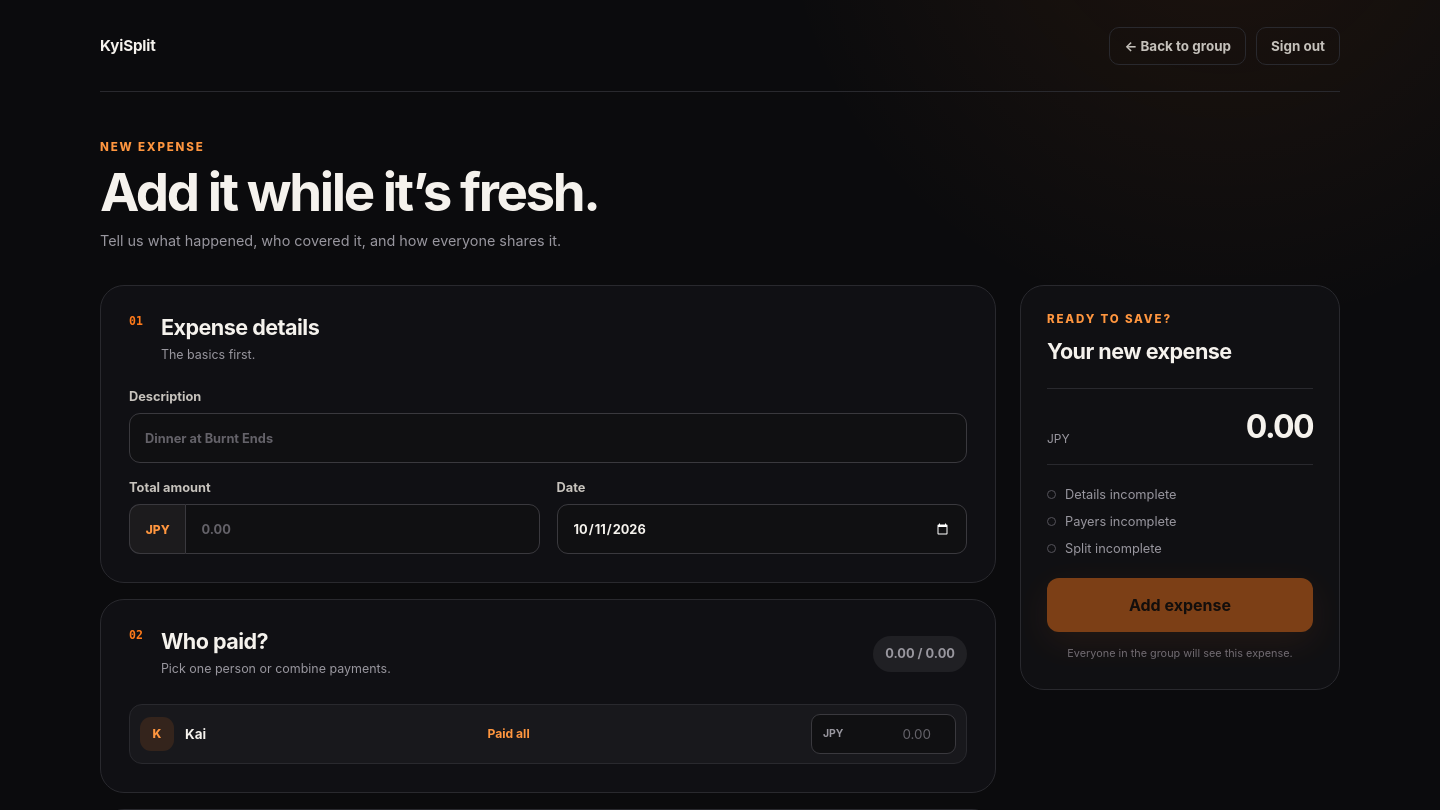
Test case: defaults to group currency and permits another supported source currency
The image size is (1440, 810).
Click the button with aria-label "Expense currency: JPY" at [157, 529], box left=129, top=504, right=185, bottom=554
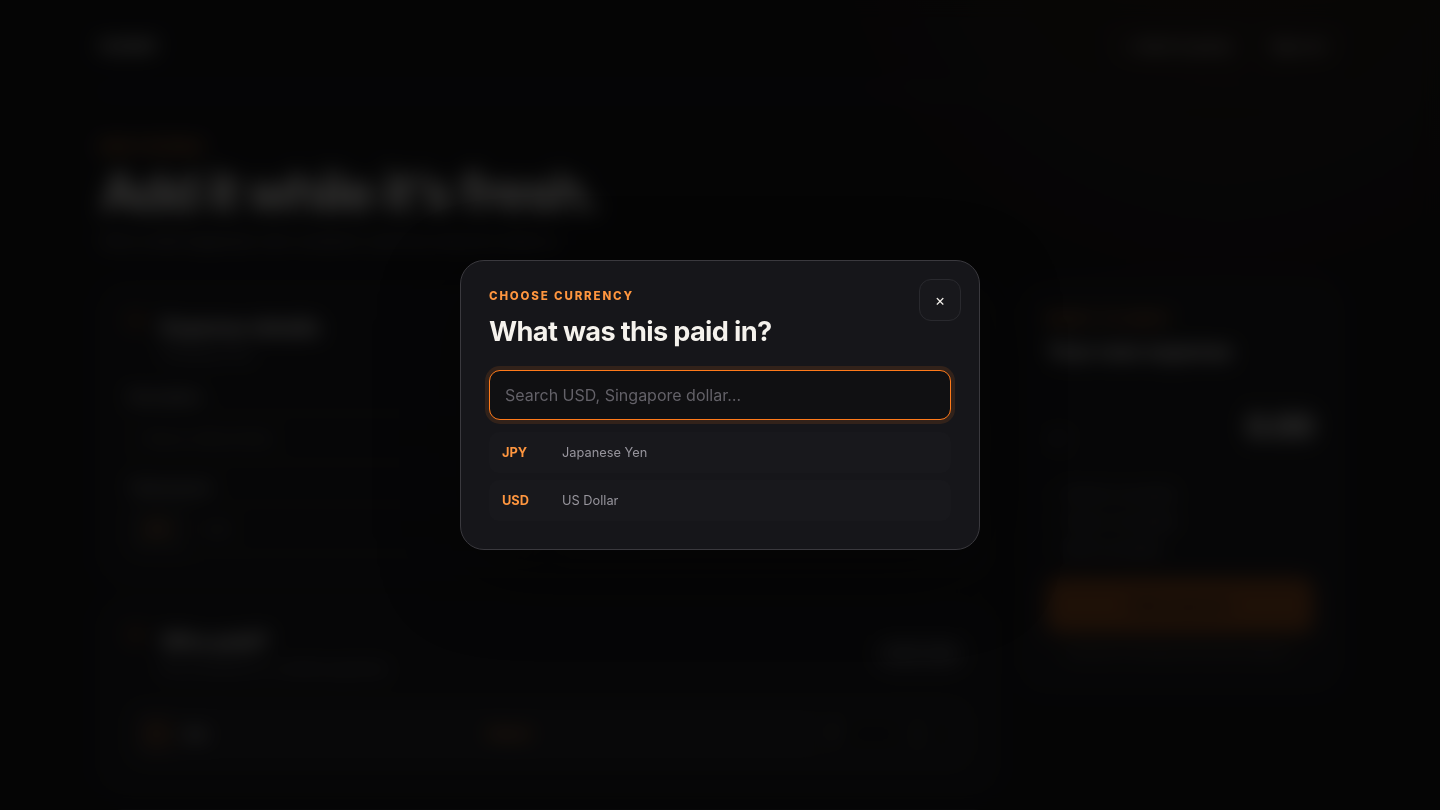
Click the button "USD US Dollar" at [590, 500], box left=489, top=480, right=951, bottom=521
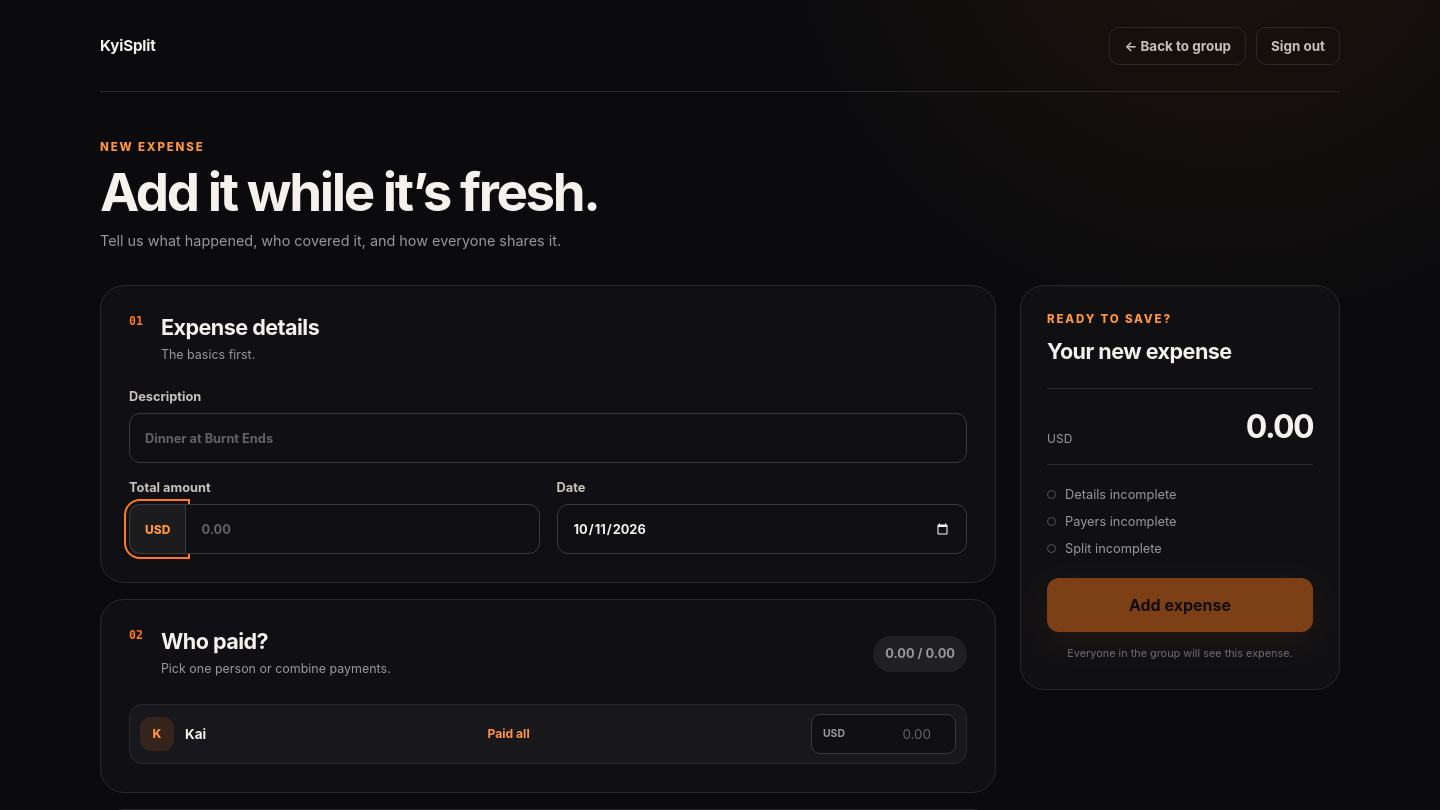
Result: the button with aria-label "Expense currency: USD" is shown at left=129, top=504, right=185, bottom=554
